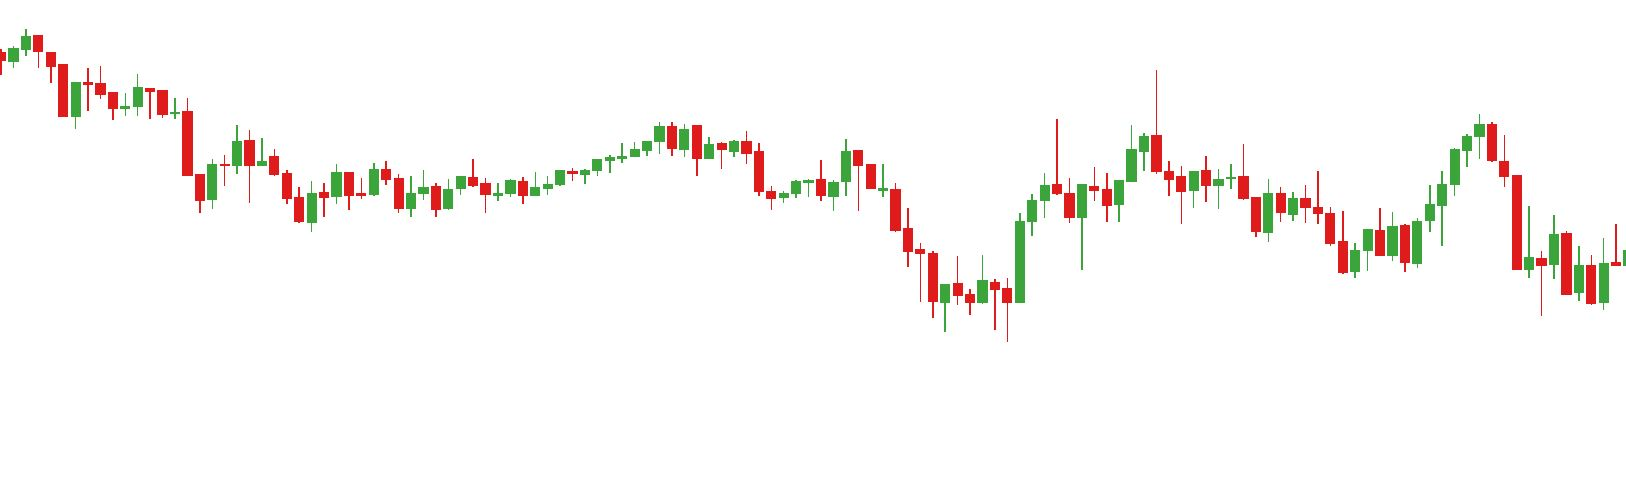sell: (1235, 111, 1499, 226), (1052, 73, 1166, 209)
